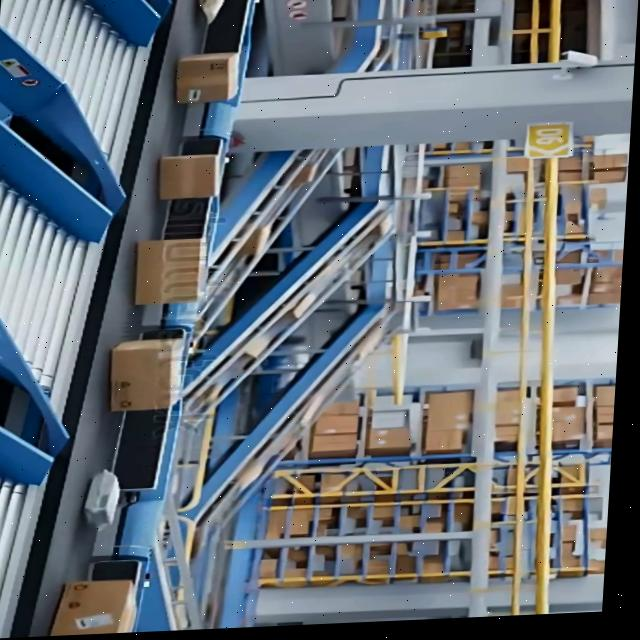product 1: (106, 337, 186, 412), (132, 237, 206, 306), (156, 153, 221, 200), (173, 69, 239, 104)
